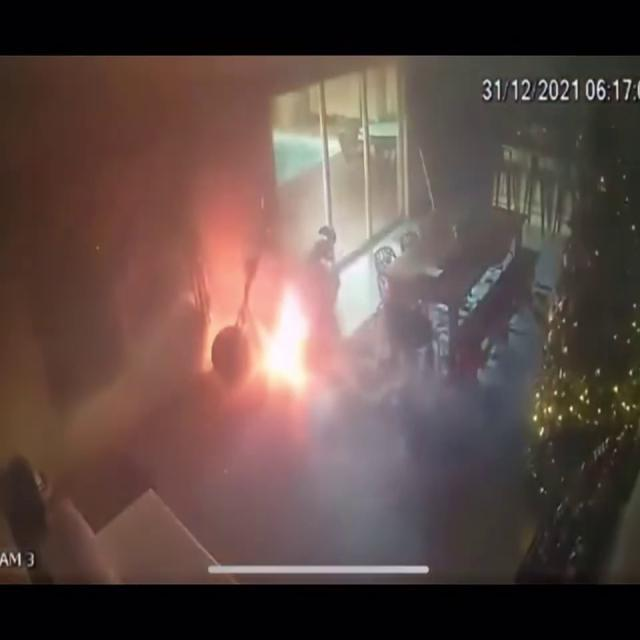Fire: (206, 261, 322, 398)
Smoke: (0, 58, 206, 471)
